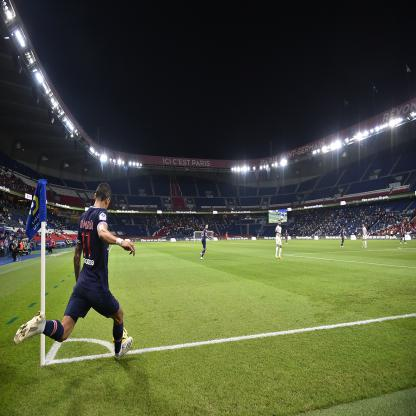corner kick: (19, 144, 148, 386)
